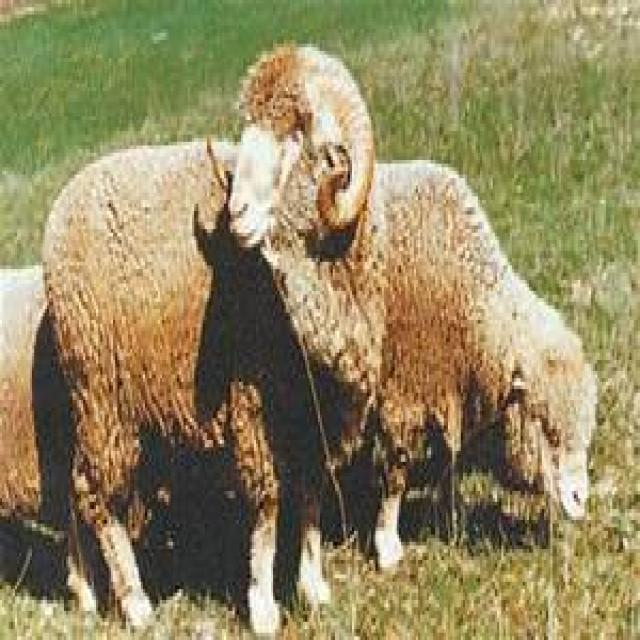animal: (44, 44, 385, 624), (388, 166, 597, 571)
